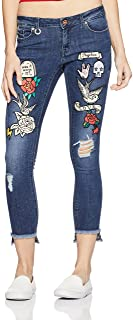jeans: (6, 7, 117, 236)
